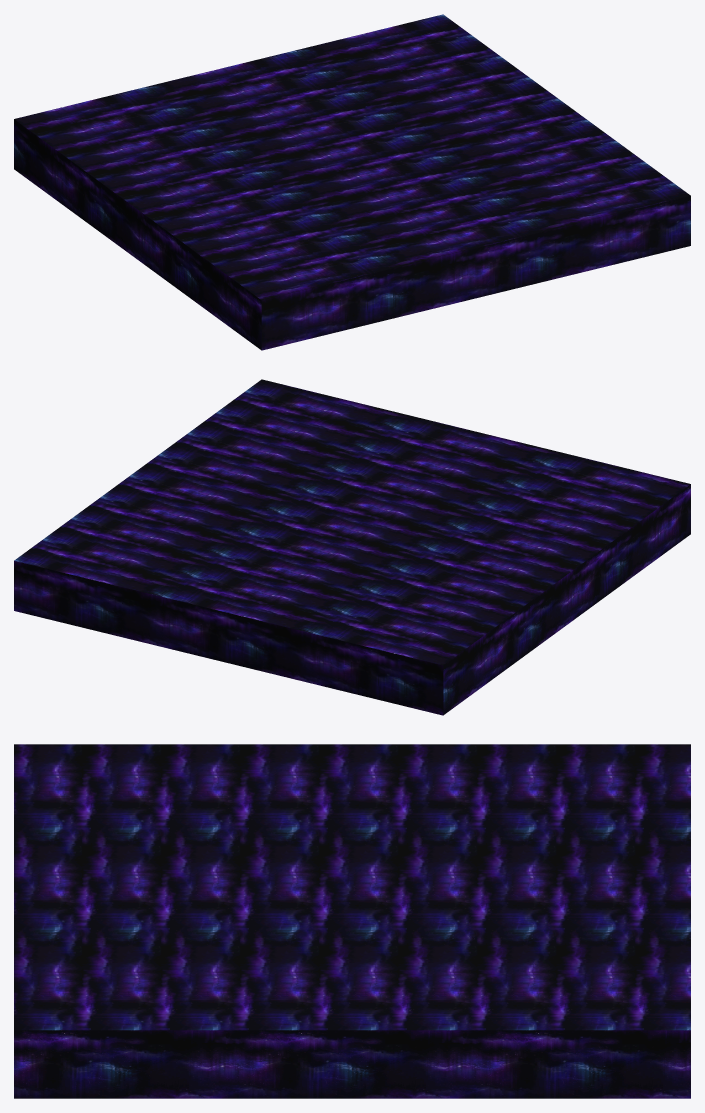
The picture shows the model from 3 angles, top to bottom: view 1: azimuth 30°, elevation 25°; view 2: azimuth 150°, elevation 25°; view 3: azimuth 270°, elevation 25°; orthographic projection. The views are drawn at different scales.
Parts seen in each view (by area): view 1: course-SKP--space; view 2: course-SKP--space; view 3: course-SKP--space.
Part boxes in pixels (bbox=[...]): course-SKP--space: bbox=[14, 14, 690, 350]; course-SKP--space: bbox=[14, 379, 690, 715]; course-SKP--space: bbox=[14, 744, 690, 1098].
Bounding box in the file's own units: 71621 × 8000 × 71621.
Materials: 8 (8 with a texture image).
